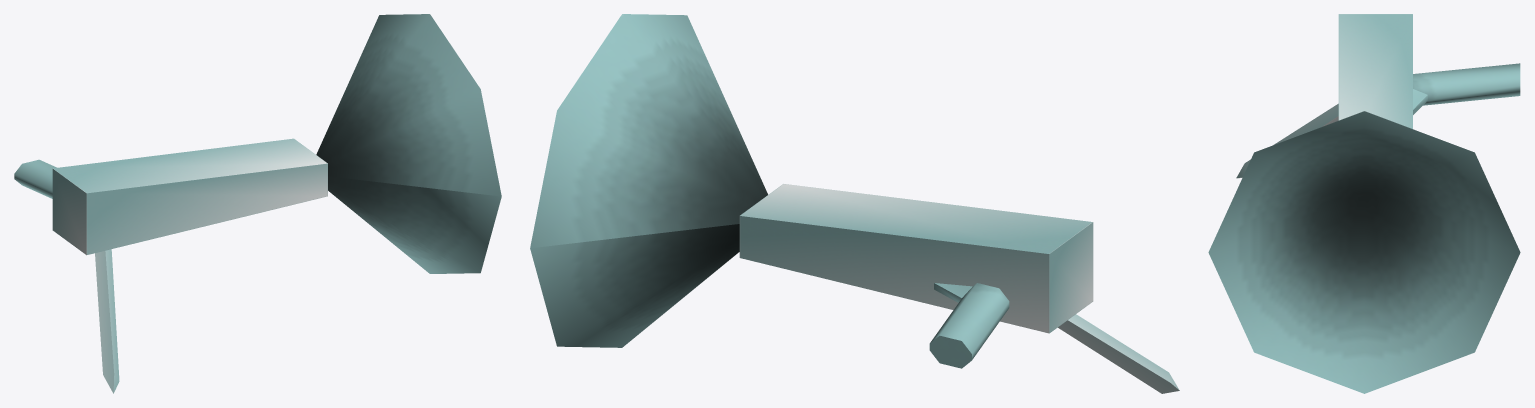
File: Lazer.fbx
3 views of the same model, side by side, from view 1: azimuth 30°, elevation 25°; view 2: azimuth 150°, elevation 25°; view 3: azimuth 270°, elevation 25° (orthographic). The views are drawn at different scales.
Parts seen in each view (by area): view 1: Box002; view 2: Box002; view 3: Box002.
Boxes of the visible parts, box(x1,y1,x2,y2) form: Box002: box(14, 14, 501, 393); Box002: box(530, 14, 1179, 393); Box002: box(1208, 14, 1520, 393).
Bounding box in the file's own units: 47.94 × 31.59 × 31.59.
1 material, 1 textured.
